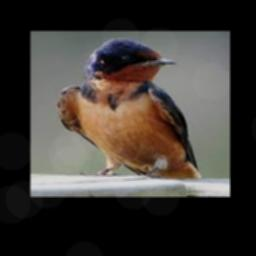Swallow: (56, 37, 201, 179)
